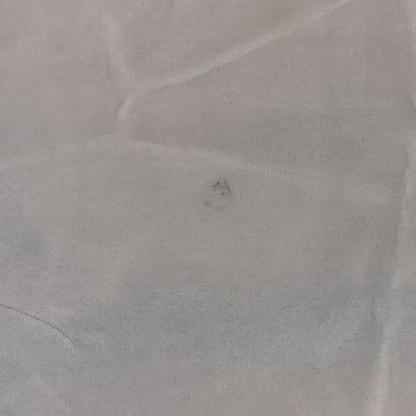spot: (200, 175, 244, 203), (197, 194, 229, 216)
